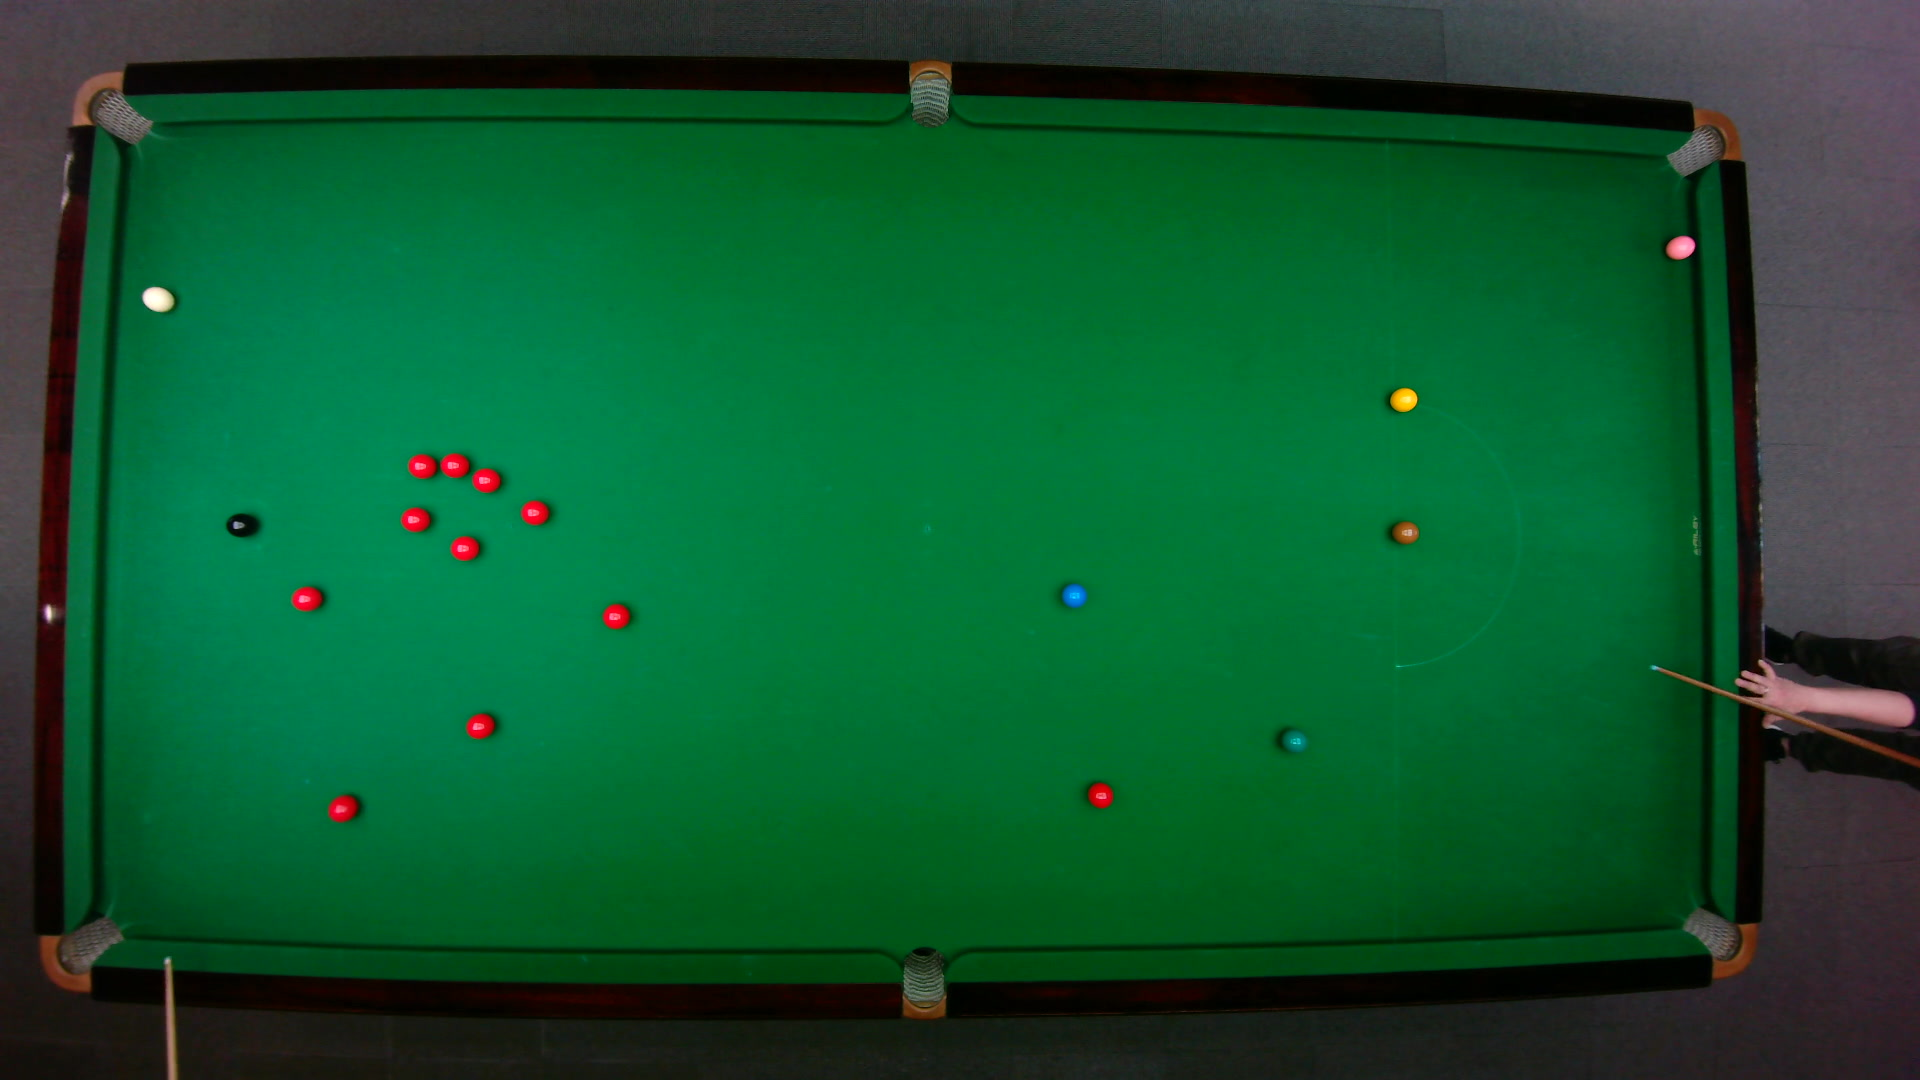bag: (37, 913, 125, 992), (69, 69, 153, 145), (1677, 905, 1756, 978), (1663, 107, 1741, 177), (901, 944, 944, 1021), (909, 57, 949, 128)
black: (223, 512, 257, 537)
blue: (1059, 582, 1087, 608)
brown: (1390, 520, 1419, 545)
cue: (1646, 661, 1920, 769), (164, 953, 178, 1072)
green: (1278, 727, 1309, 753)
pink: (1663, 232, 1697, 260)
red: (324, 793, 359, 823), (289, 584, 323, 612), (448, 533, 480, 560), (464, 711, 496, 738), (469, 465, 501, 493), (600, 603, 630, 630), (439, 450, 469, 477), (398, 505, 430, 531), (1085, 781, 1114, 808), (520, 498, 550, 525), (405, 452, 436, 477)
white: (138, 284, 175, 313)
yellow: (1387, 385, 1418, 411)
zone: (1390, 402, 1519, 667)
